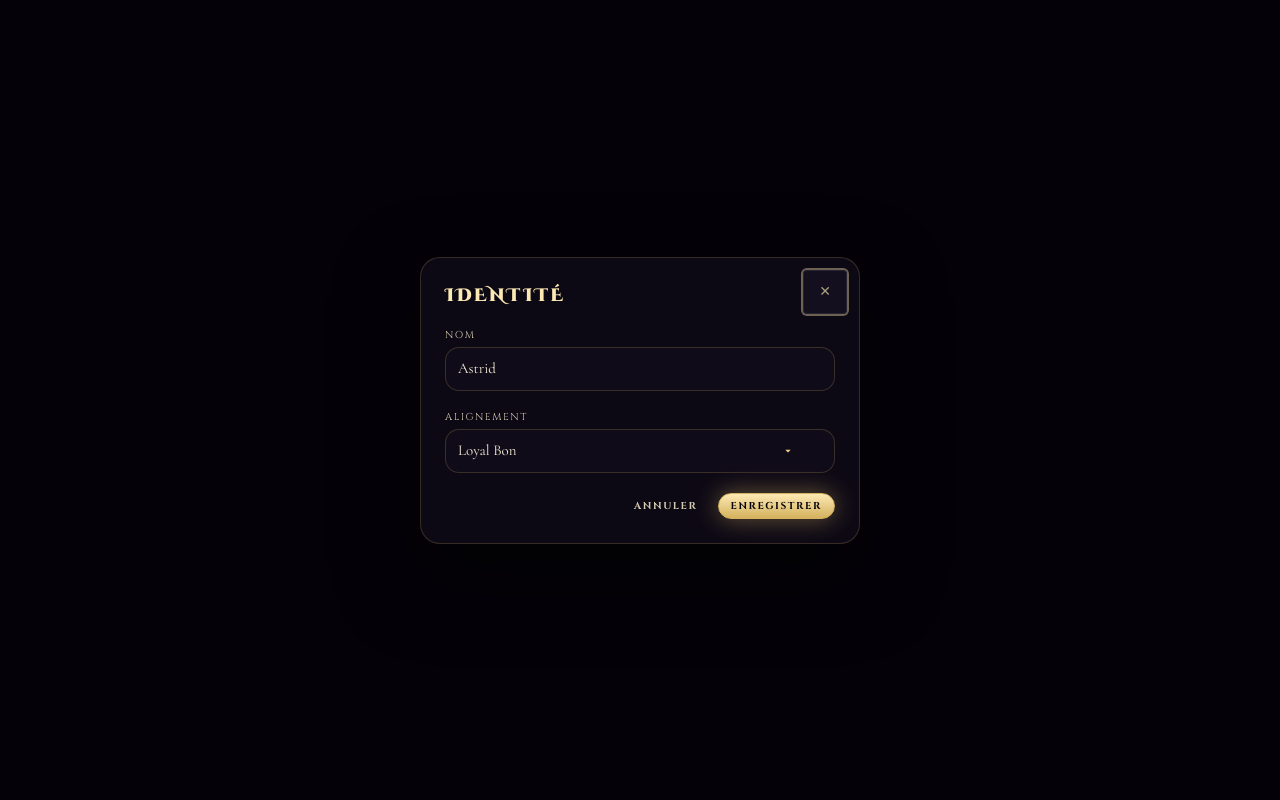
Test case: <IdentityEditModal> › refuse d'enregistrer un nom vide
Clear the field labelled "Nom": (640, 368) top-left (445, 346), bottom-right (835, 390)
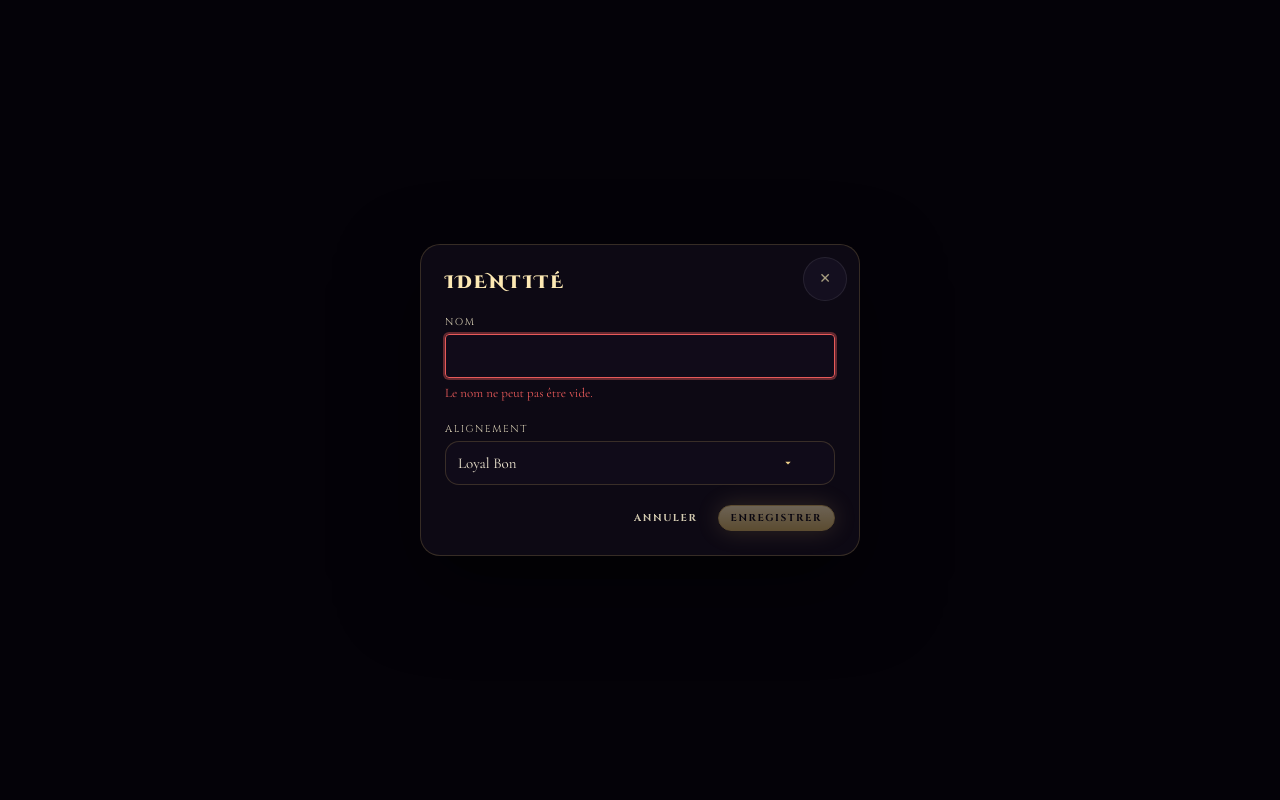
Now the button "Enregistrer" is disabled, box top-left (718, 505), bottom-right (835, 531)
Now the text "Le nom ne peut pas être vide." is shown, box top-left (445, 385), bottom-right (593, 401)
